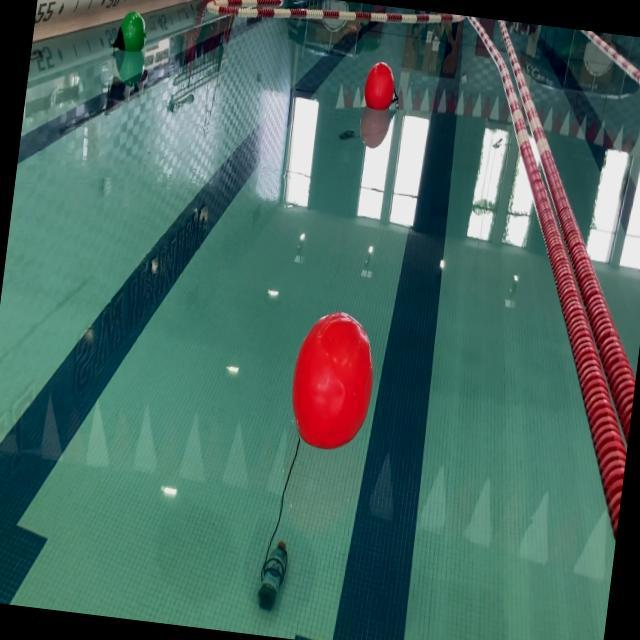buoy: (286, 306, 379, 454), (361, 58, 398, 114), (114, 12, 148, 52)
